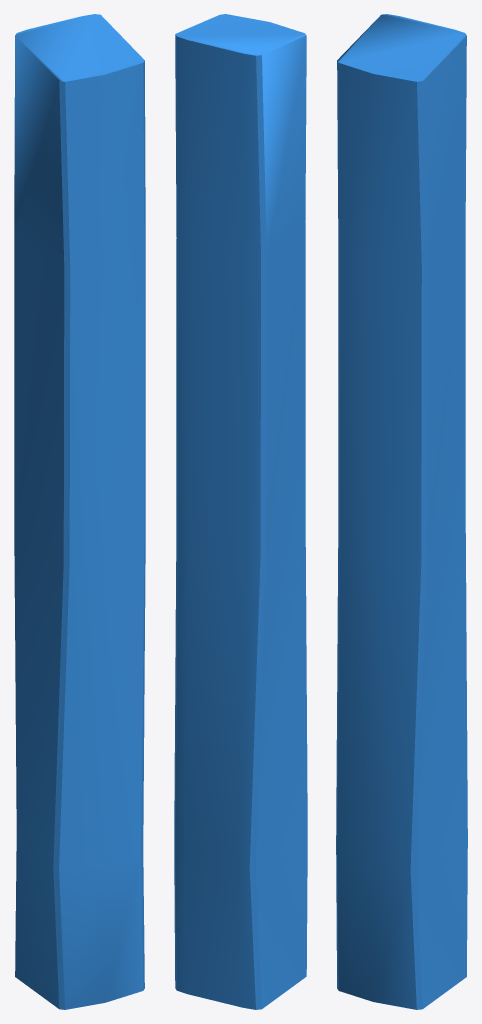
File: ColumnShort.fbx
3 renders of one model, left to right at view 1: azimuth 30°, elevation 25°; view 2: azimuth 150°, elevation 25°; view 3: azimuth 330°, elevation 25°, orthographic.
Parts seen in each view (by area): view 1: Box013; view 2: Box013; view 3: Box013.
Boxes of the visible parts, x1,y1,x2,y2 form: Box013: [14, 14, 145, 1009]; Box013: [174, 14, 307, 1009]; Box013: [336, 14, 467, 1009].
Bounding box in the file's own units: 31.65 × 31.85 × 308.
